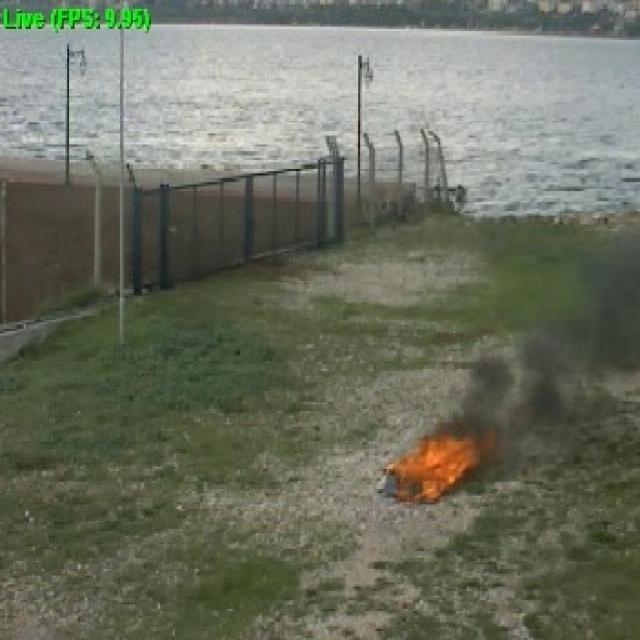fire: (392, 425, 482, 497)
